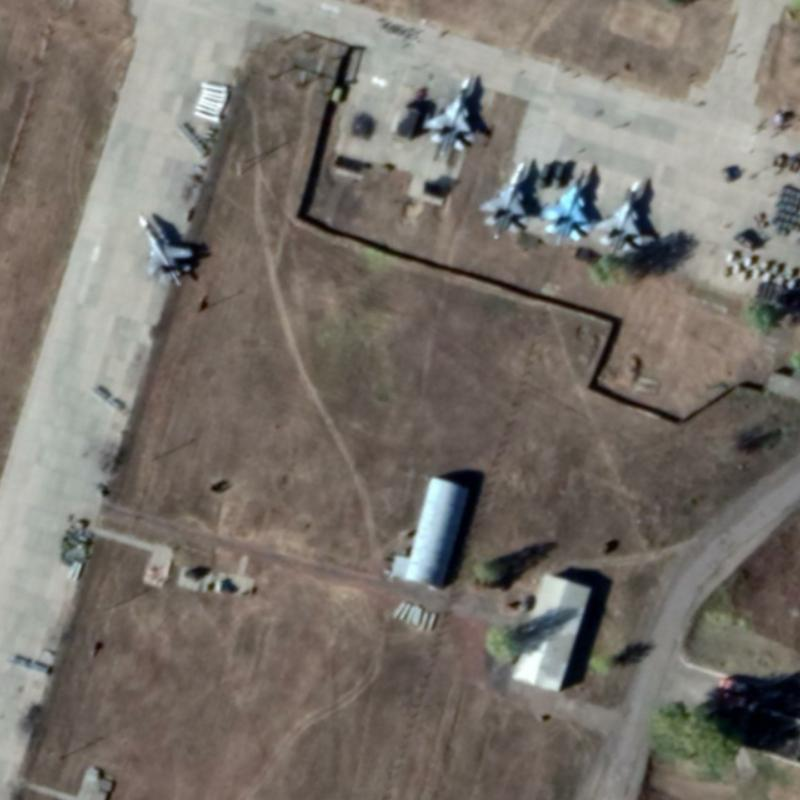A19: (418, 67, 480, 153), (594, 172, 653, 258), (134, 209, 197, 288), (472, 154, 529, 241), (536, 160, 594, 243)
